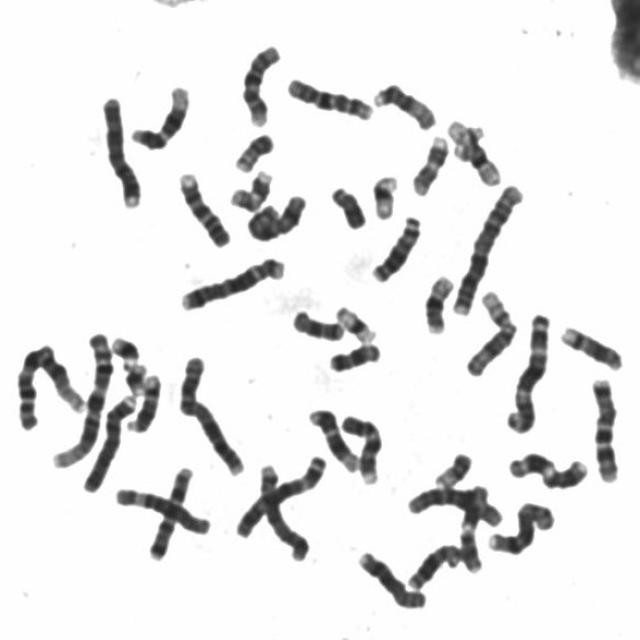A1: (50, 328, 114, 469), (13, 342, 87, 433)
A2: (449, 182, 527, 320), (178, 352, 246, 477)
A3: (233, 454, 328, 542), (506, 309, 551, 434)
B4: (80, 393, 137, 495), (100, 95, 144, 210)
B5: (178, 255, 288, 314), (258, 463, 311, 563)
C10: (284, 76, 373, 123), (238, 43, 281, 130)
C11: (508, 450, 590, 490), (459, 484, 492, 573)
C12: (128, 81, 192, 153), (305, 408, 360, 474)
C6: (112, 486, 212, 537), (406, 487, 504, 529)
C7: (147, 463, 195, 562), (588, 377, 624, 485)
C8: (356, 550, 427, 610), (486, 500, 556, 556)
C9: (177, 171, 232, 248), (340, 412, 383, 485)
D13: (370, 214, 421, 286), (407, 542, 458, 594)
D14: (560, 323, 624, 371), (126, 374, 161, 434)
D15: (372, 84, 438, 131), (465, 322, 518, 378)
E16: (452, 131, 501, 188), (423, 273, 455, 335)
E17: (411, 136, 448, 197), (229, 168, 273, 213)
E18: (291, 308, 345, 343), (327, 343, 382, 374)
F19: (334, 301, 378, 347), (372, 172, 398, 221)
F20: (233, 132, 275, 174), (433, 451, 472, 490)
G21: (111, 336, 140, 372), (123, 362, 149, 398)
G22: (479, 288, 511, 329), (446, 118, 484, 144)
X: (245, 192, 306, 244)
Y: (330, 185, 368, 232)
